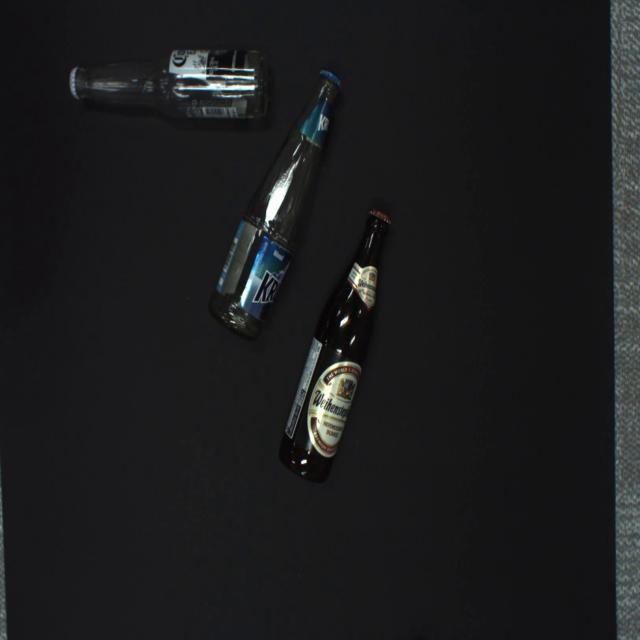beer-bottle: (209, 69, 341, 340), (279, 208, 390, 484), (69, 48, 269, 119)
